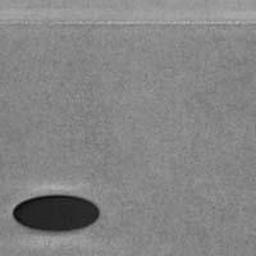Punching: (13, 195, 101, 232)
